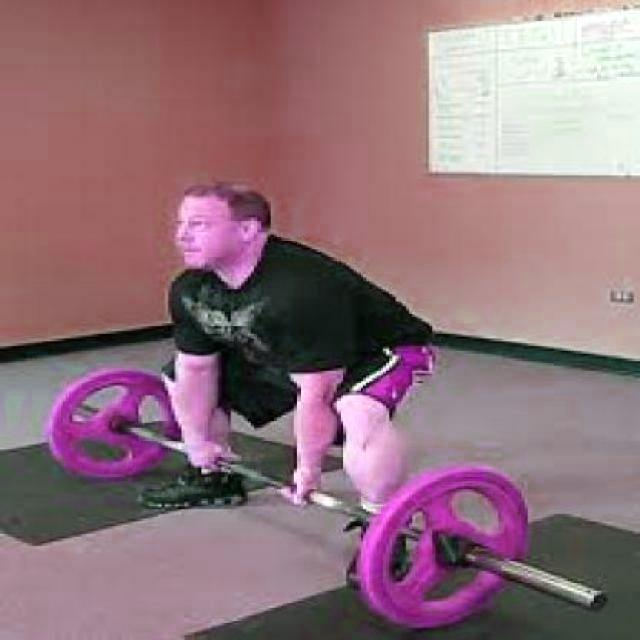barbell: (352, 465, 617, 632)
